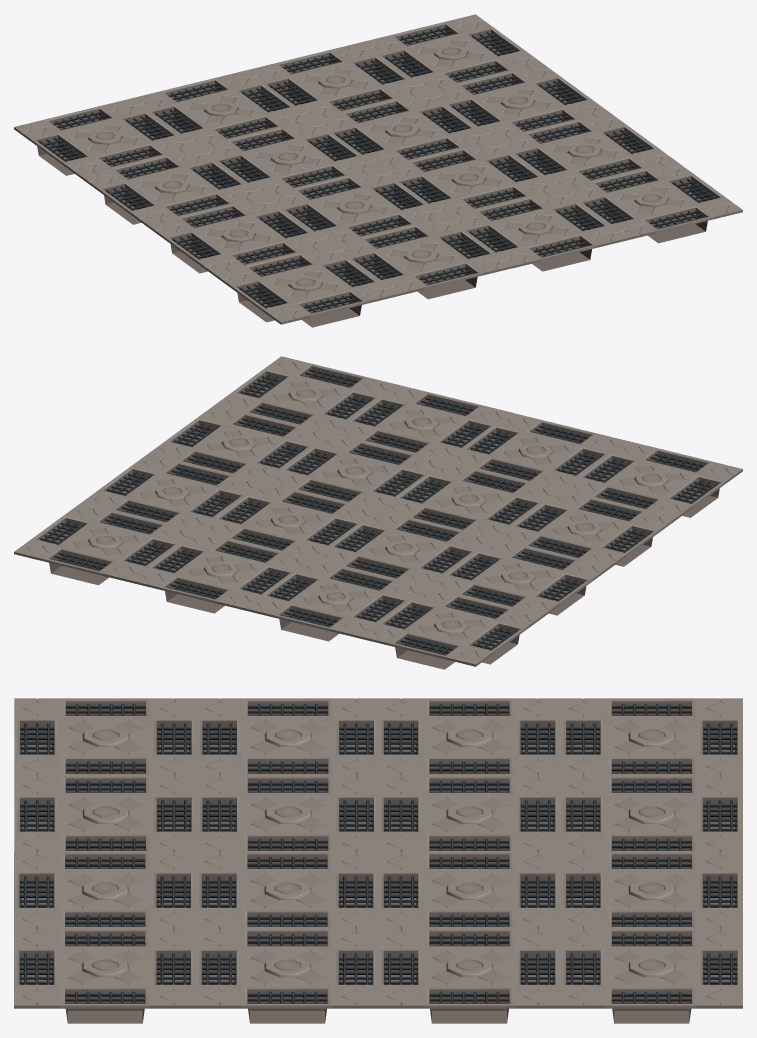
Rendered from devweb.glb.
The picture shows the model from 3 angles, top to bottom: view 1: azimuth 30°, elevation 25°; view 2: azimuth 150°, elevation 25°; view 3: azimuth 270°, elevation 25°; orthographic projection. The views are drawn at different scales.
Visible parts, largest first — view 1: floor_tile_extralarge_grates.012, floor_tile_extralarge_grates.003, floor_tile_extralarge_grates.001, floor_tile_extralarge_grates.014, floor_tile_extralarge_grates.010, floor_tile_extralarge_grates.013, floor_tile_extralarge_grates.011, floor_tile_extralarge_grates.005, floor_tile_extralarge_grates.006, floor_tile_extralarge_grates.007, floor_tile_extralarge_grates.002, floor_tile_extralarge_grates (+4 smaller); view 2: floor_tile_extralarge_grates.010, floor_tile_extralarge_grates.007, floor_tile_extralarge_grates.005, floor_tile_extralarge_grates.008, floor_tile_extralarge_grates.012, floor_tile_extralarge_grates.011, floor_tile_extralarge_grates.013, floor_tile_extralarge_grates.001, floor_tile_extralarge_grates.003, floor_tile_extralarge_grates, floor_tile_extralarge_grates.006, floor_tile_extralarge_grates.009 (+4 smaller); view 3: floor_tile_extralarge_grates.007, floor_tile_extralarge_grates, floor_tile_extralarge_grates.001, floor_tile_extralarge_grates.006, floor_tile_extralarge_grates.011, floor_tile_extralarge_grates.012, floor_tile_extralarge_grates.005, floor_tile_extralarge_grates.010, floor_tile_extralarge_grates.002, floor_tile_extralarge_grates.003, floor_tile_extralarge_grates.004, floor_tile_extralarge_grates.013 (+4 smaller).
Boxes of the visible parts, <box> form: floor_tile_extralarge_grates.012: <box>214,245,396,327</box>; floor_tile_extralarge_grates.003: <box>445,189,627,271</box>; floor_tile_extralarge_grates.001: <box>560,161,742,243</box>; floor_tile_extralarge_grates.014: <box>330,217,512,299</box>; floor_tile_extralarge_grates.010: <box>14,98,195,177</box>; floor_tile_extralarge_grates.013: <box>147,196,329,275</box>; floor_tile_extralarge_grates.011: <box>81,147,262,226</box>; floor_tile_extralarge_grates.005: <box>244,42,426,119</box>; floor_tile_extralarge_grates.006: <box>427,63,608,140</box>; floor_tile_extralarge_grates.007: <box>360,14,541,91</box>; floor_tile_extralarge_grates.002: <box>378,140,559,217</box>; floor_tile_extralarge_grates: <box>494,112,675,188</box>; floor_tile_extralarge_grates.010: <box>360,587,542,669</box>; floor_tile_extralarge_grates.007: <box>14,503,196,585</box>; floor_tile_extralarge_grates.005: <box>129,531,312,613</box>; floor_tile_extralarge_grates.008: <box>244,559,426,641</box>; floor_tile_extralarge_grates.012: <box>560,441,742,519</box>; floor_tile_extralarge_grates.011: <box>427,538,609,617</box>; floor_tile_extralarge_grates.013: <box>494,489,675,568</box>; floor_tile_extralarge_grates.001: <box>214,356,396,433</box>; floor_tile_extralarge_grates.003: <box>330,384,512,461</box>; floor_tile_extralarge_grates: <box>148,405,329,482</box>; floor_tile_extralarge_grates.006: <box>81,454,262,531</box>; floor_tile_extralarge_grates.009: <box>313,510,492,587</box>; floor_tile_extralarge_grates.007: <box>560,928,742,1023</box>; floor_tile_extralarge_grates: <box>196,928,378,1023</box>; floor_tile_extralarge_grates.001: <box>14,928,196,1023</box>; floor_tile_extralarge_grates.006: <box>378,928,560,1023</box>; floor_tile_extralarge_grates.011: <box>378,698,560,775</box>; floor_tile_extralarge_grates.012: <box>14,698,196,775</box>; floor_tile_extralarge_grates.005: <box>560,851,742,928</box>; floor_tile_extralarge_grates.010: <box>560,698,742,775</box>; floor_tile_extralarge_grates.002: <box>196,851,378,928</box>; floor_tile_extralarge_grates.003: <box>14,851,196,928</box>; floor_tile_extralarge_grates.004: <box>378,851,560,928</box>; floor_tile_extralarge_grates.013: <box>196,698,379,775</box>.
Size of the model in its own units: 31.88 by 1.13 by 31.96.
16 materials, 16 textured.
